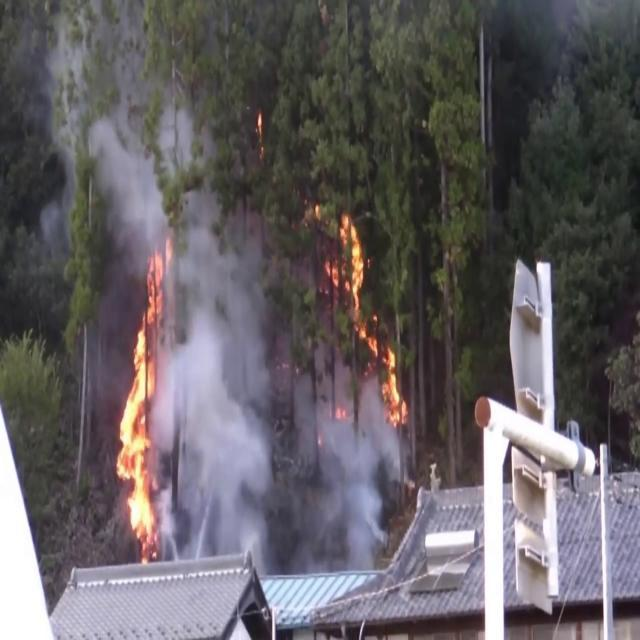Fire: (111, 249, 168, 554), (336, 206, 376, 352), (378, 334, 410, 434)
Smoke: (158, 199, 284, 589), (68, 61, 230, 275), (293, 376, 389, 571)
